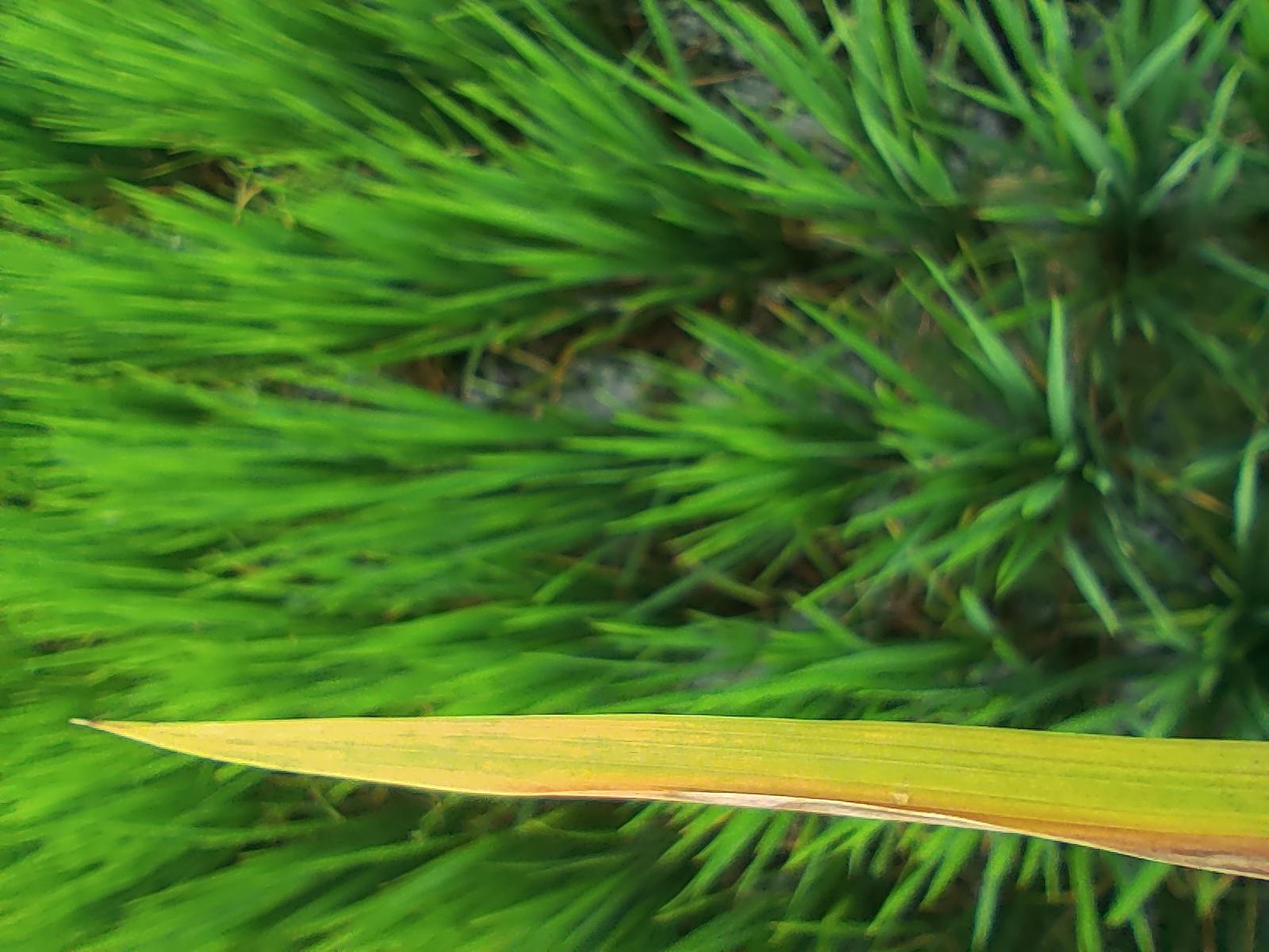BLB: (99, 370, 222, 951)
LEAF: (97, 54, 316, 951)
